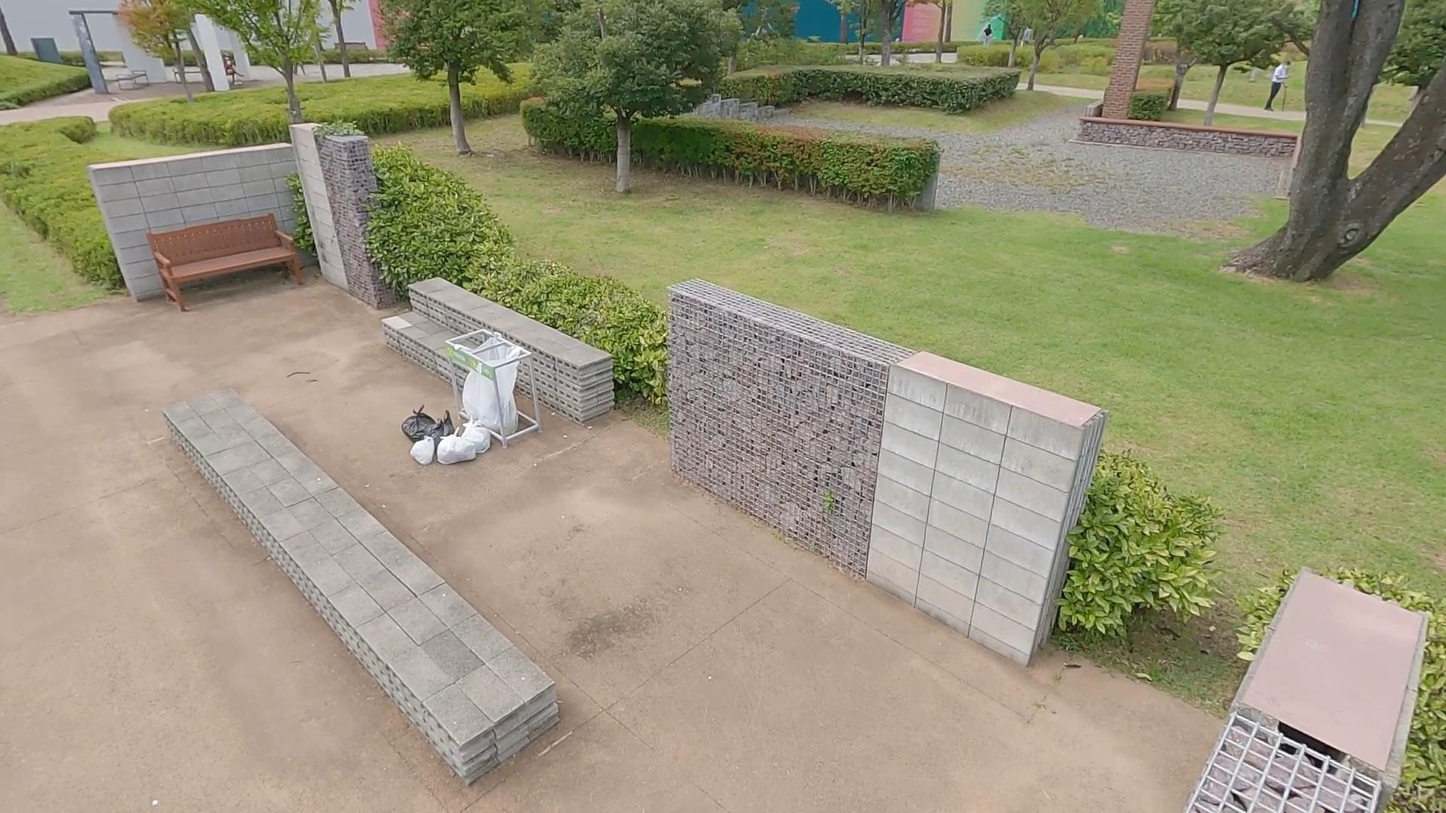person: (1261, 56, 1291, 116)
trash: (436, 428, 480, 467), (427, 410, 460, 460), (400, 403, 437, 442), (409, 427, 441, 470), (460, 415, 492, 454)
